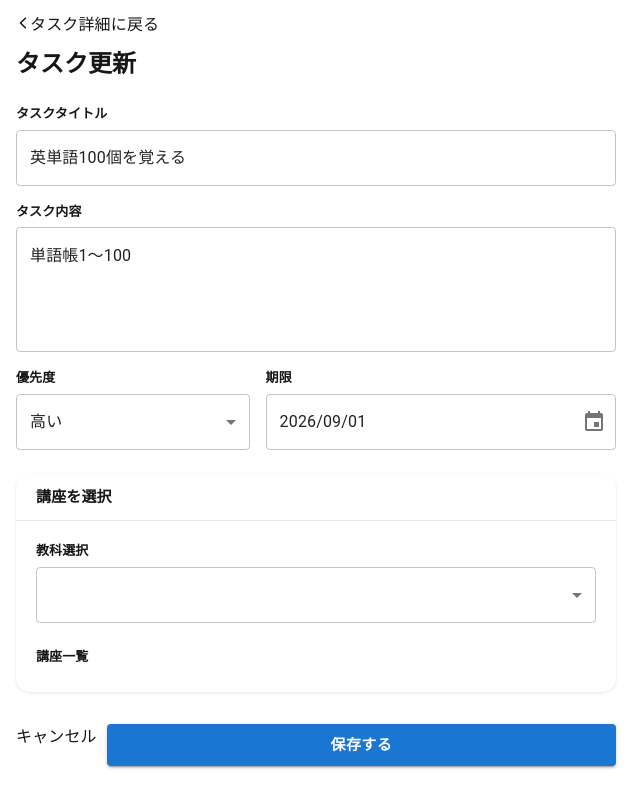
Test case: EditTaskPresenter › タイトルを空にして送信すると「タスク名を入力してください」が表示される
Clear the field: (316, 158) [16,130,616,186]
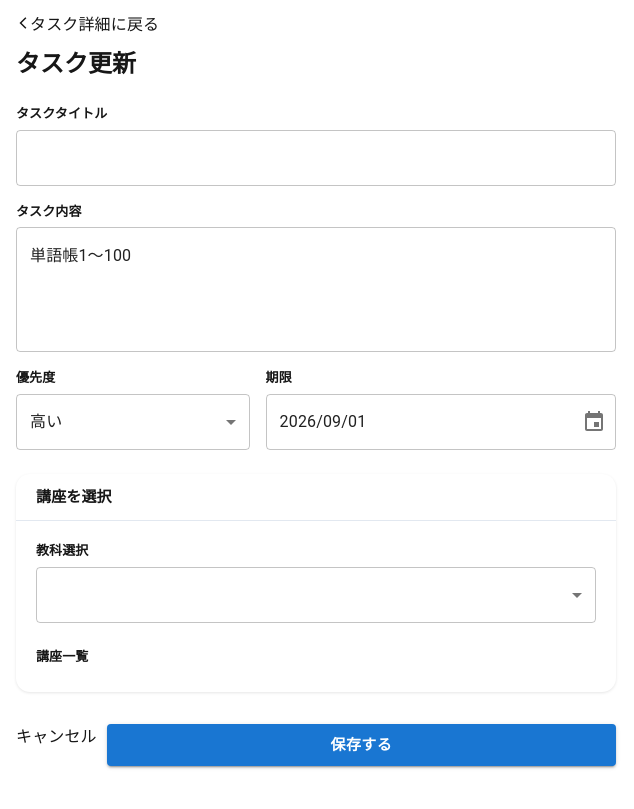
Click the button "保存する": click(361, 745) [107,724,616,766]
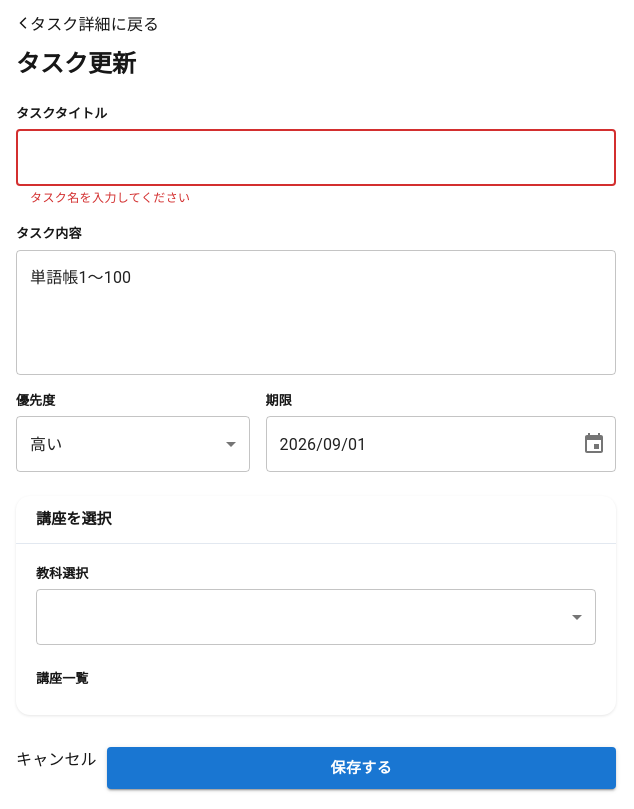
Expected: the text "タスク名を入力してください" is shown, [30,190,190,204]
